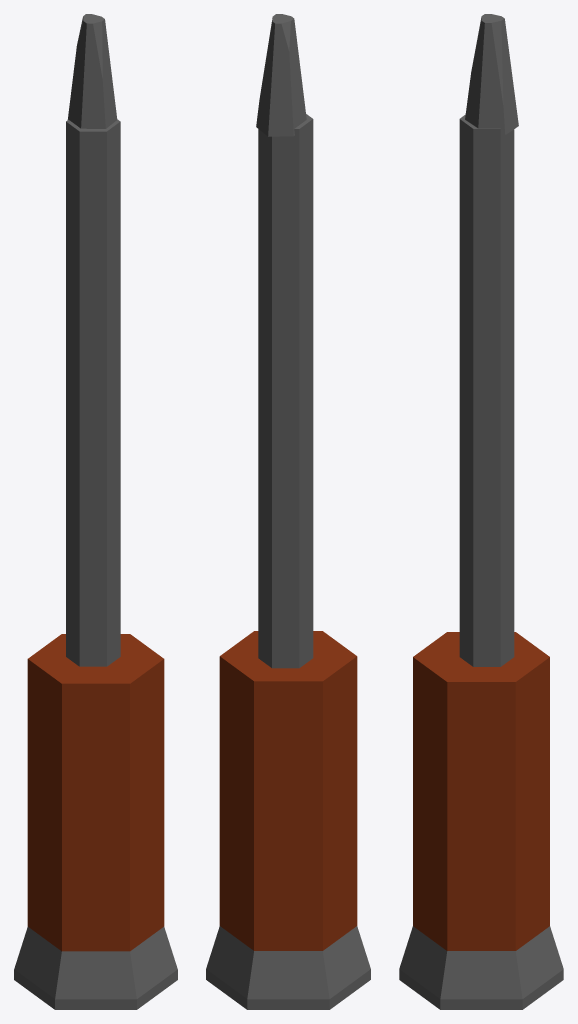
Rendered from screwdriver.fbx.
3 renders of one model, left to right at view 1: azimuth 30°, elevation 25°; view 2: azimuth 150°, elevation 25°; view 3: azimuth 270°, elevation 25°, orthographic.
Visible parts, largest first — view 1: hexagon (×3), hexagon_base, rock; view 2: hexagon (×3), hexagon_base, rock; view 3: hexagon (×3), hexagon_base, rock.
Part boxes in pixels (box(x1,y1,x2,y2)): hexagon (×3): box(27, 119, 164, 897); hexagon_base: box(14, 873, 177, 1009); rock: box(67, 14, 117, 128); hexagon (×3): box(219, 114, 357, 896); hexagon_base: box(206, 872, 370, 1009); rock: box(256, 14, 306, 136); hexagon (×3): box(413, 114, 549, 897); hexagon_base: box(399, 872, 563, 1009); rock: box(465, 14, 518, 135).
Size of the model in its own units: 1.2 by 8.94 by 1.39.
